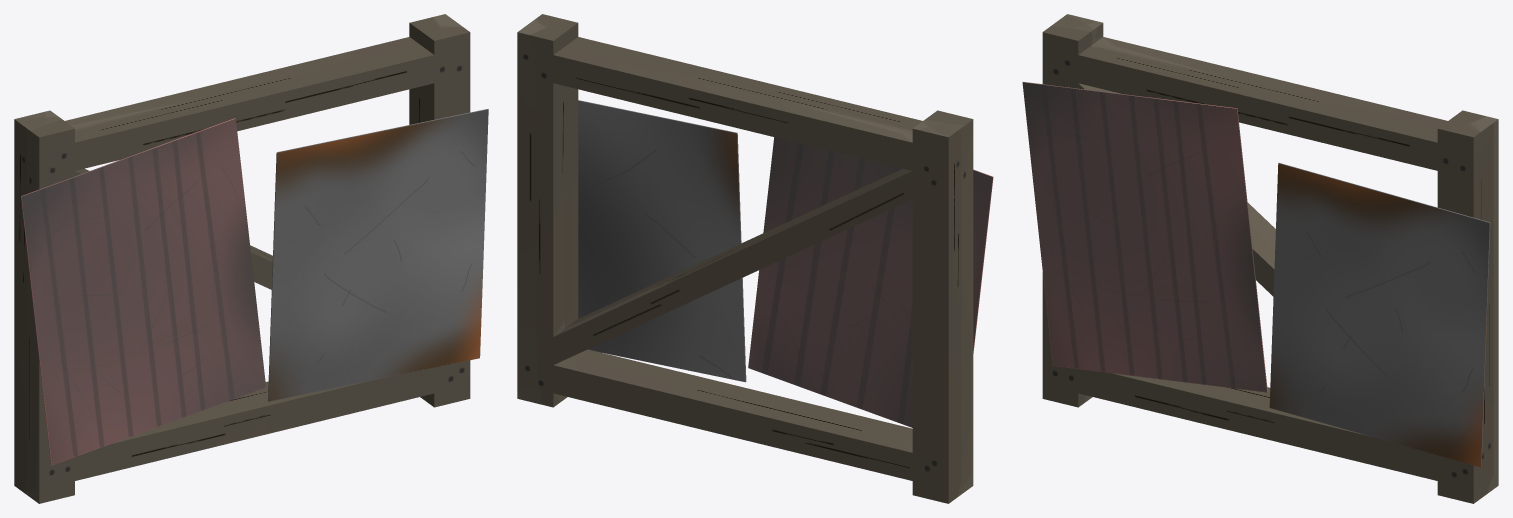
File: Junk Fence1.glb
3 renders of one model, left to right at view 1: azimuth 30°, elevation 25°; view 2: azimuth 150°, elevation 25°; view 3: azimuth 330°, elevation 25°, orthographic.
Parts seen in each view (by area): view 1: Metal, Metal2, Fence; view 2: Fence, Metal2, Metal; view 3: Metal, Metal2, Fence.
Part boxes in pixels (bbox=[...]): Metal: bbox=[21, 118, 266, 465]; Metal2: bbox=[268, 109, 488, 401]; Fence: bbox=[14, 14, 470, 503]; Fence: bbox=[517, 14, 973, 503]; Metal2: bbox=[578, 100, 746, 382]; Metal: bbox=[748, 137, 993, 427]; Metal: bbox=[1022, 82, 1267, 392]; Metal2: bbox=[1269, 163, 1490, 467]; Fence: bbox=[1042, 14, 1498, 503].
Size of the model in its own units: 2.94 by 2.2 by 0.2834.
3 materials, 3 textured.
